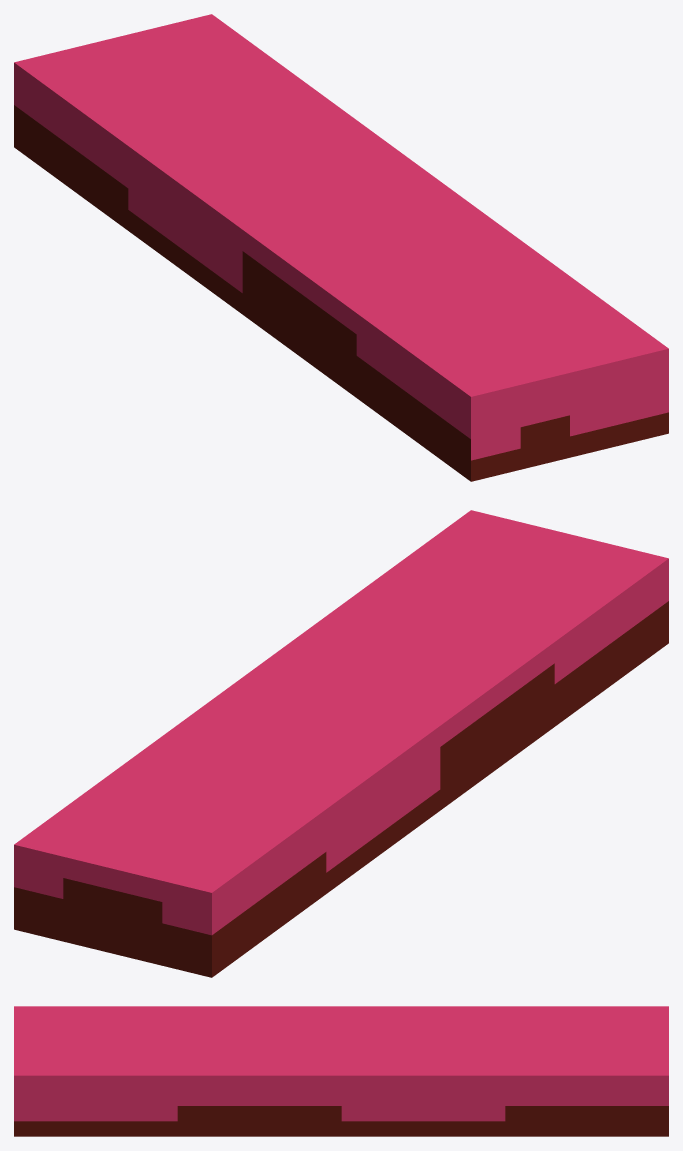
The model's file is Plank.fbx.
3 views of the same model, one above another, from view 1: azimuth 30°, elevation 25°; view 2: azimuth 150°, elevation 25°; view 3: azimuth 270°, elevation 25° (orthographic). The views are drawn at different scales.
Parts seen in each view (by area): view 1: Cube; view 2: Cube; view 3: Cube.
Part boxes in pixels (box(x1,y1,x2,y2)): Cube: box(14, 14, 668, 481); Cube: box(14, 510, 668, 977); Cube: box(14, 1006, 668, 1136).
Bounding box in the file's own units: 200 × 82 × 800.
